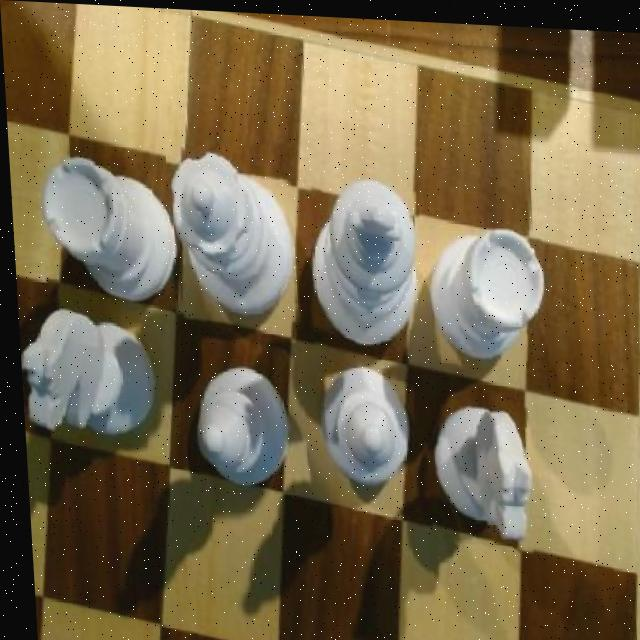black-rook: (190, 362, 289, 491), (313, 361, 411, 485)
white-bishop: (305, 180, 423, 353)
white-king: (14, 307, 156, 449), (422, 393, 532, 546)
white-pawn: (164, 138, 298, 328)
white-queen: (38, 155, 181, 313), (425, 222, 546, 358)
